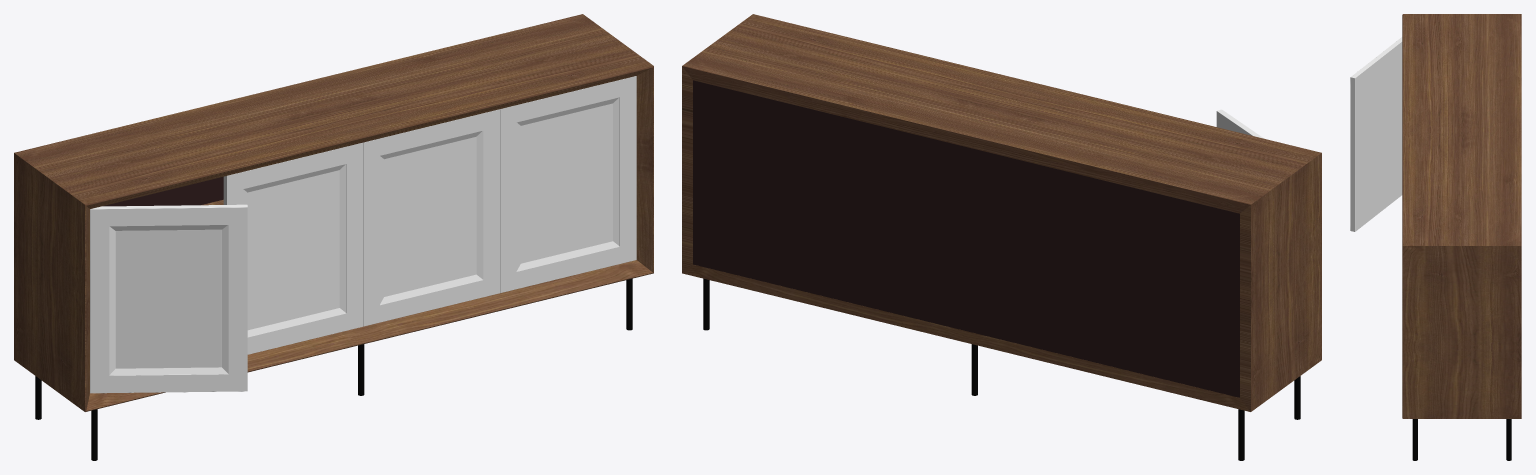
Rendered from sideboard_madia_tilt_a_4_montefioredesign_arredamentomd.glb.
3 renders of one model, left to right at view 1: azimuth 30°, elevation 25°; view 2: azimuth 150°, elevation 25°; view 3: azimuth 270°, elevation 25°, orthographic. The views are drawn at different scales.
Parts seen in each view (by area): view 1: Object_10, Object_2, Object_3, Object_9, Object_4; view 2: Object_9, Object_2, Object_4; view 3: Object_2, Object_3, Object_4.
Part boxes in pixels (bbox=[...]): Object_10: bbox=[116, 76, 636, 368]; Object_2: bbox=[14, 14, 653, 411]; Object_3: bbox=[90, 204, 247, 393]; Object_9: bbox=[103, 176, 223, 206]; Object_4: bbox=[35, 278, 632, 460]; Object_9: bbox=[693, 80, 1239, 397]; Object_2: bbox=[682, 14, 1321, 411]; Object_4: bbox=[703, 278, 1300, 460]; Object_2: bbox=[1402, 14, 1521, 418]; Object_3: bbox=[1350, 37, 1402, 231]; Object_4: bbox=[1412, 419, 1511, 460].
Bounding box in the file's own units: 2056 × 913 × 641.
Materials: 5 (1 with a texture image).
